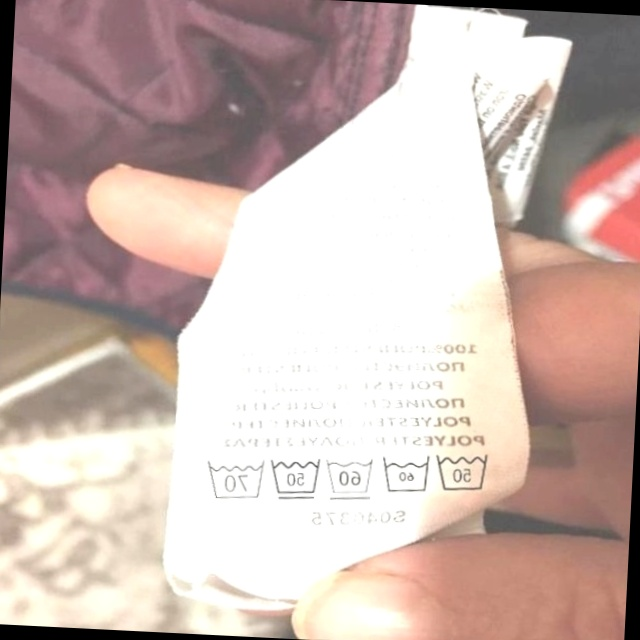50C: (431, 444, 496, 498), (265, 452, 324, 505)
60C: (320, 452, 376, 503), (376, 450, 433, 499)
70C: (199, 455, 266, 504)
